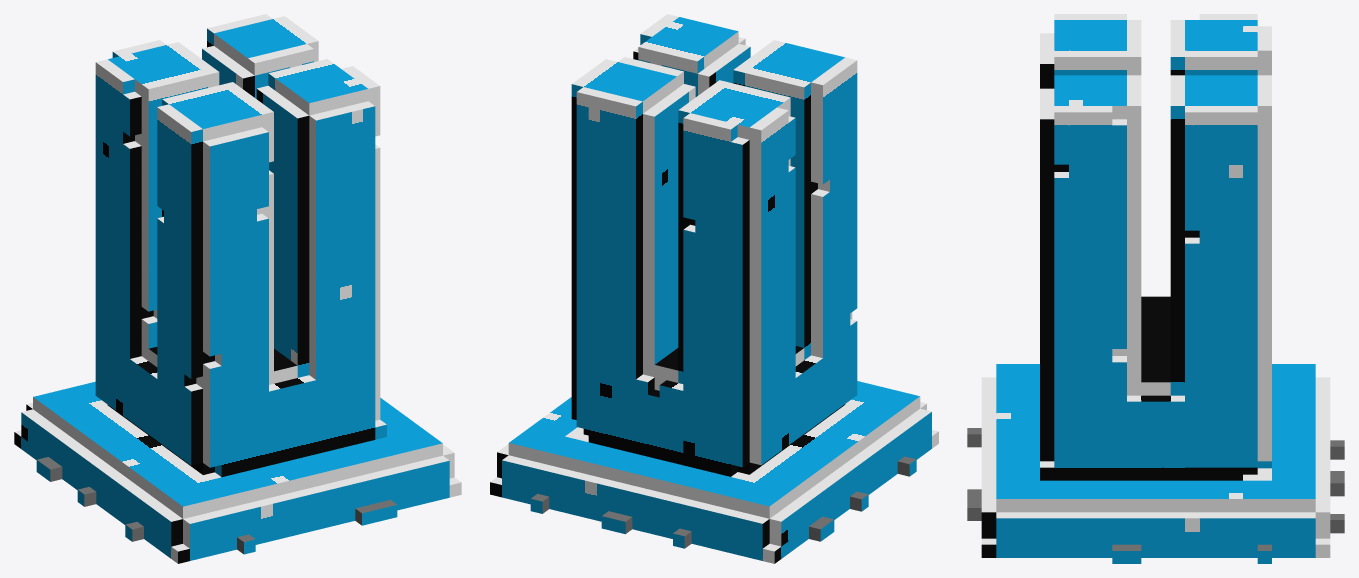
Rendered from fork_blueao.fezao.glb.
The picture shows the model from 3 angles, left to right: view 1: azimuth 30°, elevation 25°; view 2: azimuth 150°, elevation 25°; view 3: azimuth 270°, elevation 25°; orthographic projection. The views are drawn at different scales.
Parts seen in each view (by area): view 1: FORK_BLUEAO; view 2: FORK_BLUEAO; view 3: FORK_BLUEAO.
Part boxes in pixels (bbox=[...]): FORK_BLUEAO: bbox=[14, 14, 461, 563]; FORK_BLUEAO: bbox=[490, 14, 938, 563]; FORK_BLUEAO: bbox=[967, 14, 1344, 563].
Bounding box in the file's own units: 1.62 × 2 × 1.62.
Materials: 1 (1 with a texture image).
